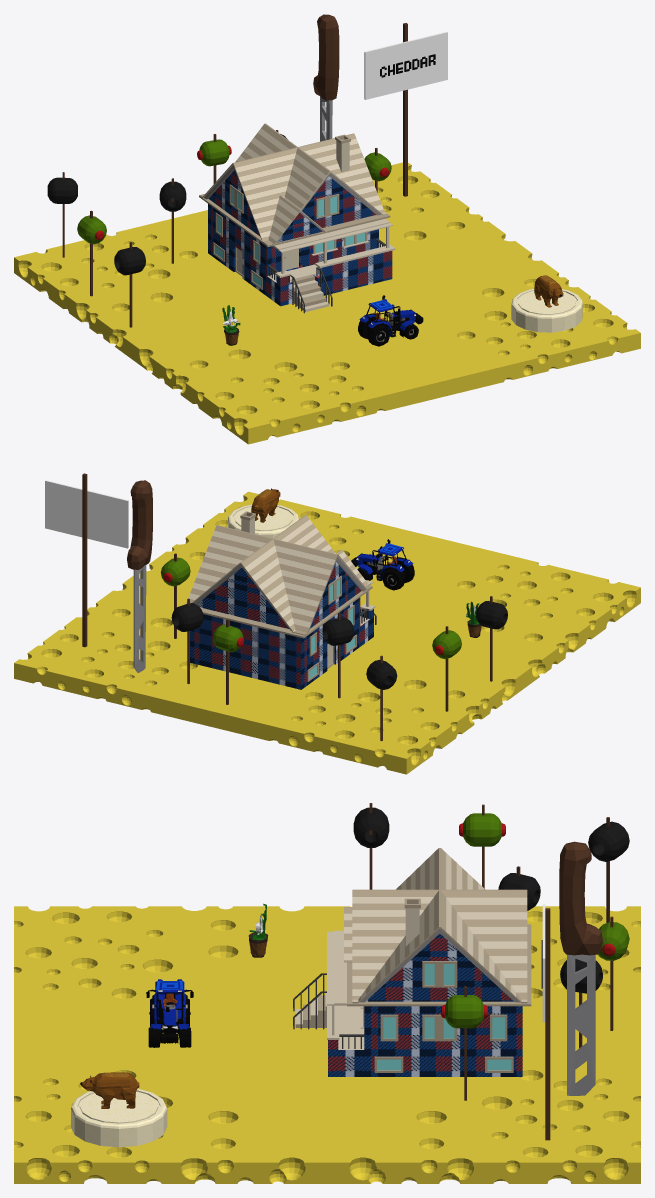
3 views of the same model, one above another, from view 1: azimuth 30°, elevation 25°; view 2: azimuth 150°, elevation 25°; view 3: azimuth 270°, elevation 25° (orthographic). The views are drawn at different scales.
Parts seen in each view (by area): view 1: Cube.022, Cube.171, Cube.023, Cylinder.016, Cube.024, VEHICLES_TRACTOR, Sphere.017, Sphere.016, Sphere.020, Sphere.018, Sphere.022, ANIMAL_OSO (+1 smaller); view 2: Cube.022, Cube.171, Cube.023, Cube.024, VEHICLES_TRACTOR, Cylinder.016, Sphere.017, Sphere.020, Sphere.021, Sphere.016, Sphere.018, Sphere.022 (+2 smaller); view 3: Cube.022, Cube.171, Cube.024, Cylinder.016, VEHICLES_TRACTOR, Cube.023, Sphere.019, Sphere.016, ANIMAL_OSO, Sphere.018, Sphere.017, Sphere.022 (+3 smaller).
Part boxes in pixels (bbox=[...]): Cube.022: bbox=[14, 162, 640, 444]; Cube.171: bbox=[199, 123, 395, 313]; Cube.023: bbox=[364, 23, 447, 196]; Cylinder.016: bbox=[511, 288, 582, 332]; Cube.024: bbox=[313, 14, 339, 141]; VEHICLES_TRACTOR: bbox=[358, 295, 423, 346]; Sphere.017: bbox=[114, 242, 145, 327]; Sphere.016: bbox=[47, 172, 77, 257]; Sphere.020: bbox=[159, 178, 186, 263]; Sphere.018: bbox=[77, 210, 106, 296]; Sphere.022: bbox=[197, 134, 231, 183]; ANIMAL_OSO: bbox=[534, 275, 563, 307]; Cube.022: bbox=[14, 491, 640, 774]; Cube.171: bbox=[184, 511, 376, 689]; Cube.023: bbox=[45, 473, 128, 647]; Cube.024: bbox=[127, 480, 152, 672]; VEHICLES_TRACTOR: bbox=[351, 539, 414, 590]; Cylinder.016: bbox=[228, 504, 298, 538]; Sphere.017: bbox=[476, 596, 507, 681]; Sphere.020: bbox=[322, 612, 354, 698]; Sphere.021: bbox=[171, 598, 203, 683]; Sphere.016: bbox=[366, 655, 397, 741]; Sphere.018: bbox=[432, 626, 461, 711]; Sphere.022: bbox=[212, 619, 244, 704]; Cube.022: bbox=[14, 906, 640, 1183]; Cube.171: bbox=[293, 848, 531, 1076]; Cube.024: bbox=[559, 841, 602, 1095]; Cylinder.016: bbox=[71, 1088, 167, 1147]; VEHICLES_TRACTOR: bbox=[146, 979, 193, 1047]; Cube.023: bbox=[541, 904, 550, 1140]; Sphere.019: bbox=[441, 986, 487, 1100]; Sphere.016: bbox=[588, 817, 629, 922]; ANIMAL_OSO: bbox=[80, 1072, 139, 1108]; Sphere.018: bbox=[459, 804, 505, 888]; Sphere.017: bbox=[353, 803, 389, 889]; Sphere.022: bbox=[598, 916, 629, 1030].
Size of the model in its own units: 3917 by 2007 by 4000.
38 materials, 4 textured.
